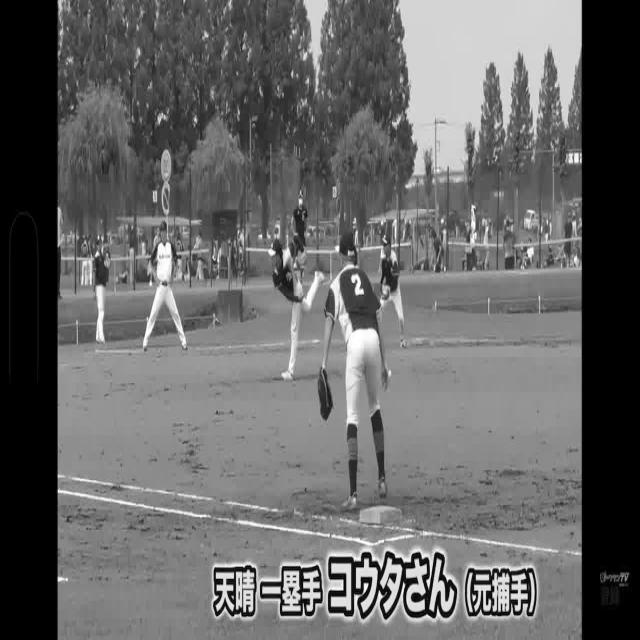base: (360, 505, 406, 528)
baseball_glove: (314, 357, 336, 427), (296, 248, 310, 268)
shoe: (340, 489, 362, 512), (312, 265, 328, 286), (280, 369, 300, 385), (378, 478, 389, 501)
